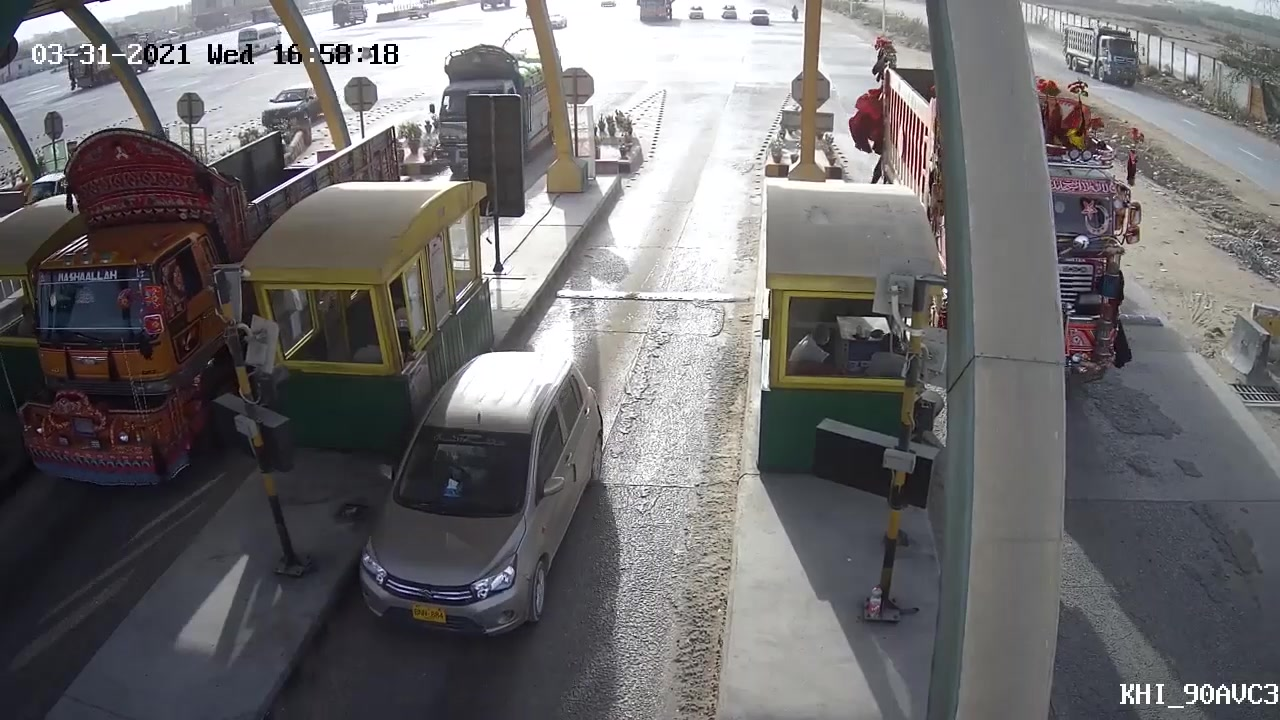F1: (343, 344, 612, 633)
